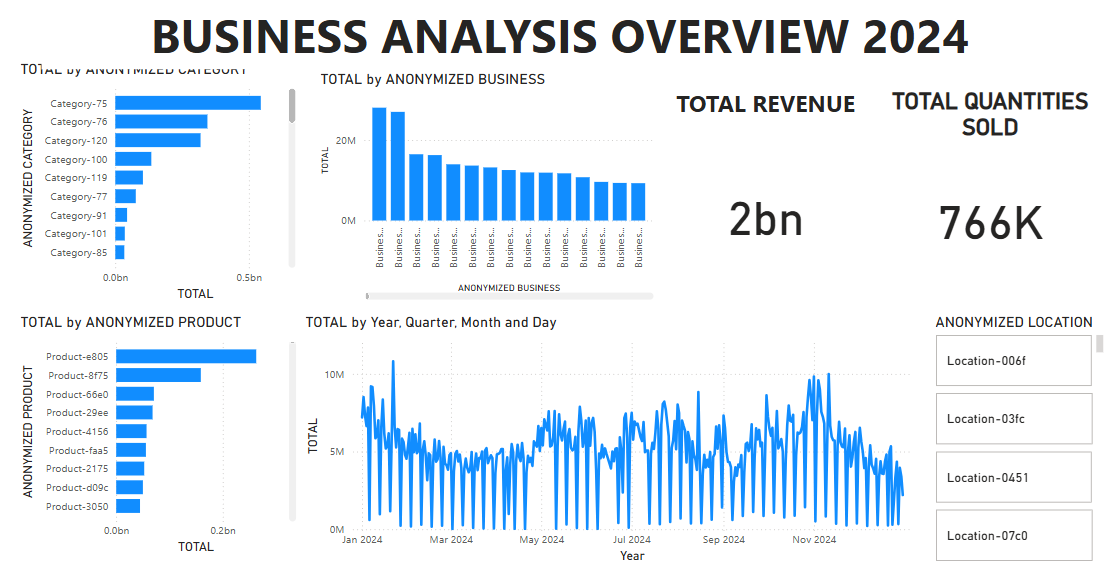

This screenshot's page, from the dashboard's own definition file:
{"tool":"powerbi","page":{"name":"Page 1","canvas":[1280,720],"ordinal":0},"visuals":[{"type":"barChart","fields":{"Category":["Cleaned_data.ANONYMIZED CATEGORY"],"Y":["Cleaned_data.TOTAL"]},"box":[25,131.1,326.6,280.8],"z":0},{"type":"barChart","fields":{"Category":["Cleaned_data.ANONYMIZED PRODUCT"],"Y":["Cleaned_data.TOTAL"]},"box":[25,422,327,281],"z":1000},{"type":"lineChart","fields":{"Category":["Cleaned_data.DATE.Variation.Date Hierarchy.Year","Cleaned_data.DATE.Variation.Date Hierarchy.Quarter","Cleaned_data.DATE.Variation.Date Hierarchy.Month","Cleaned_data.DATE.Variation.Date Hierarchy.Day"],"Y":["Cleaned_data.TOTAL"]},"box":[351.6,422.3,723.9,291.2],"z":2000},{"type":"card","title":"TOTAL REVENUE","fields":{"Values":["Cleaned_data.TOTAL"]},"box":[761.3,162.3,247.5,260],"z":3000},{"type":"card","title":"TOTAL QUANTITIES SOLD","fields":{"Values":["Sum(Cleaned_data.QUANTITY)"]},"box":[1008.9,143.5,270.4,260],"z":4000},{"type":"textbox","box":[54.1,60.3,1191.9,81.1],"z":5000},{"type":"clusteredColumnChart","fields":{"Category":["Cleaned_data.ANONYMIZED BUSINESS"],"Y":["Cleaned_data.TOTAL"]},"box":[368.2,143.5,393.2,268.3],"z":6000},{"type":"advancedSlicerVisual","fields":{"Values":["Cleaned_data.ANONYMIZED LOCATION"]},"box":[1076,422,203,291],"z":6001}]}

Visuals, with their boxes on the page's 1280x720 design canvas (x1, y1, x2, y2). These are canvas units, not pixel positions in the 1104x570 screenshot, which may show the page scaled, cropped or inside an application window:
barChart - Cleaned_data.ANONYMIZED CATEGORY x Cleaned_data.TOTAL: 25/131/352/412
barChart - Cleaned_data.ANONYMIZED PRODUCT x Cleaned_data.TOTAL: 25/422/352/703
lineChart - Cleaned_data.DATE.Variation.Date Hierarchy.Year x Cleaned_data.DATE.Variation.Date Hierarchy.Quarter: 352/422/1076/714
"TOTAL REVENUE" card: 761/162/1009/422
"TOTAL QUANTITIES SOLD" card: 1009/144/1279/404
textbox: 54/60/1246/141
clusteredColumnChart - Cleaned_data.ANONYMIZED BUSINESS x Cleaned_data.TOTAL: 368/144/761/412
advancedSlicerVisual - Cleaned_data.ANONYMIZED LOCATION: 1076/422/1279/713
